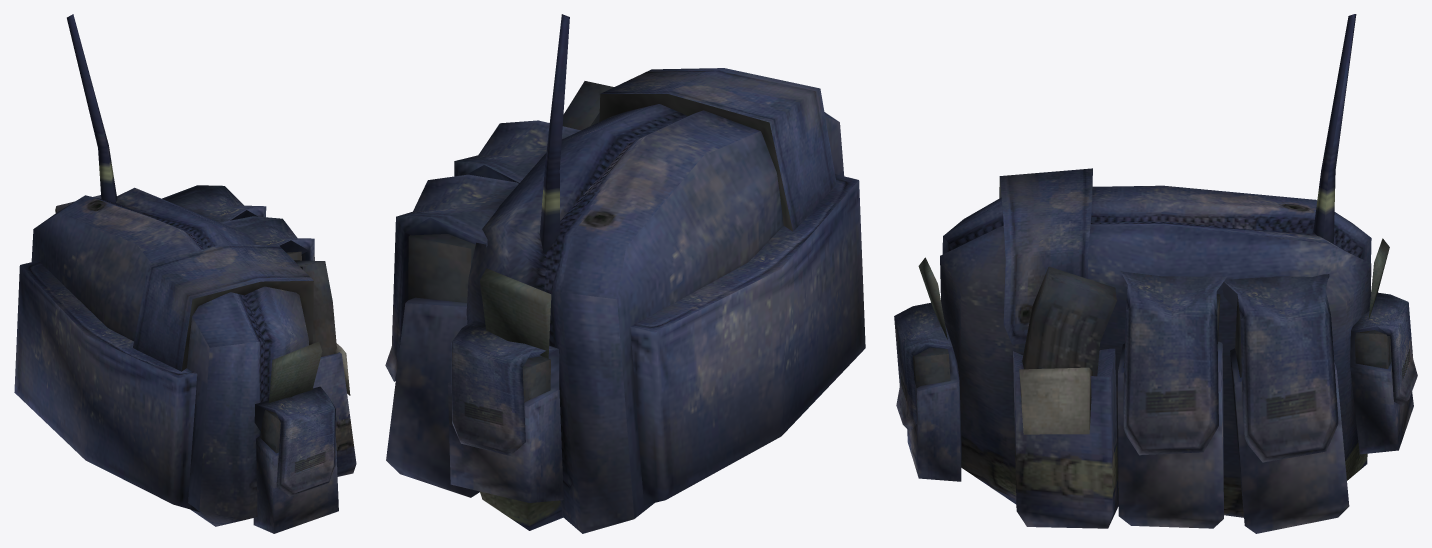
Rendered from p_glo_scavenger_pack_obj_LOD1.obj.
3 renders of one model, left to right at view 1: azimuth 30°, elevation 25°; view 2: azimuth 150°, elevation 25°; view 3: azimuth 270°, elevation 25°, orthographic. The views are drawn at different scales.
Visible parts, largest first — view 1: mtl_p_glo_scavenger_pack_01_obj, mtl_p_glo_scavenger_pack_02_obj; view 2: mtl_p_glo_scavenger_pack_01_obj, mtl_p_glo_scavenger_pack_02_obj; view 3: mtl_p_glo_scavenger_pack_01_obj, mtl_p_glo_scavenger_pack_02_obj.
Boxes of the visible parts, left/top/right/bottom form: mtl_p_glo_scavenger_pack_01_obj: left=14, top=185, right=356, bottom=533; mtl_p_glo_scavenger_pack_02_obj: left=67, top=14, right=336, bottom=519; mtl_p_glo_scavenger_pack_01_obj: left=385, top=68, right=865, bottom=533; mtl_p_glo_scavenger_pack_02_obj: left=408, top=14, right=701, bottom=530; mtl_p_glo_scavenger_pack_01_obj: left=894, top=168, right=1417, bottom=533; mtl_p_glo_scavenger_pack_02_obj: left=913, top=14, right=1391, bottom=387.
Size of the model in its own units: 25.29 by 42.77 by 44.03.
